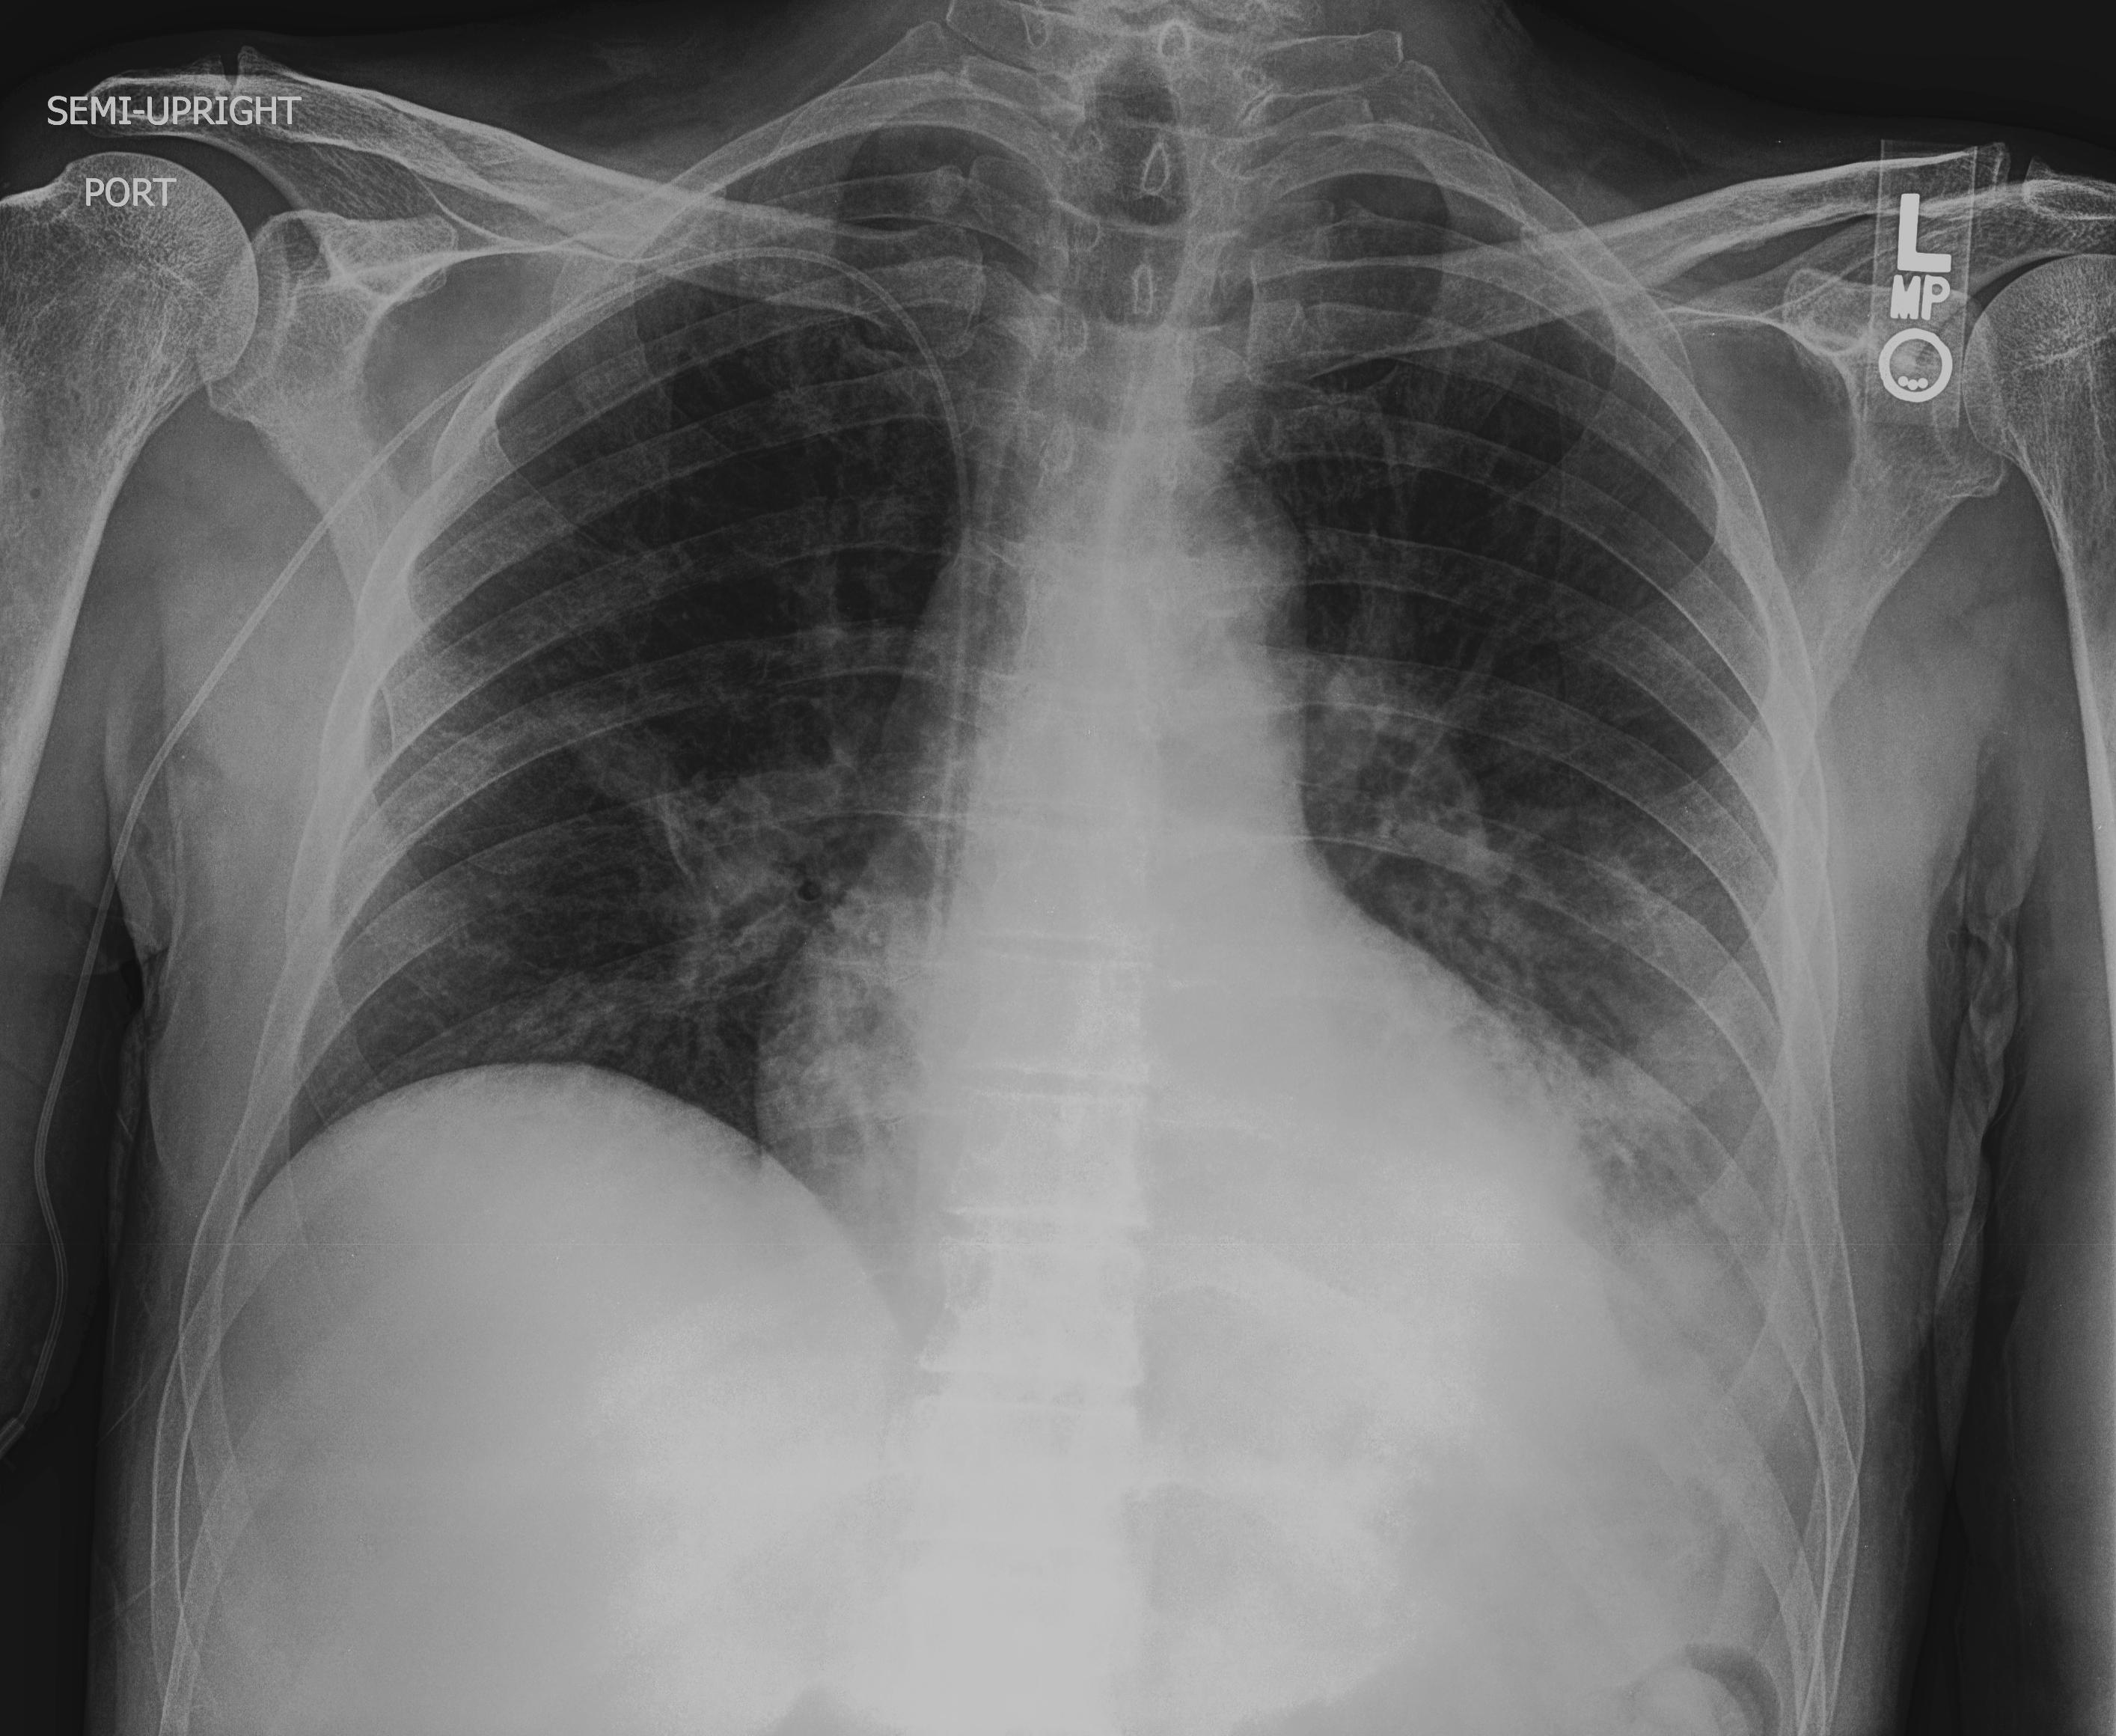Pleural Effusion: (1373, 1089, 1859, 1566)
